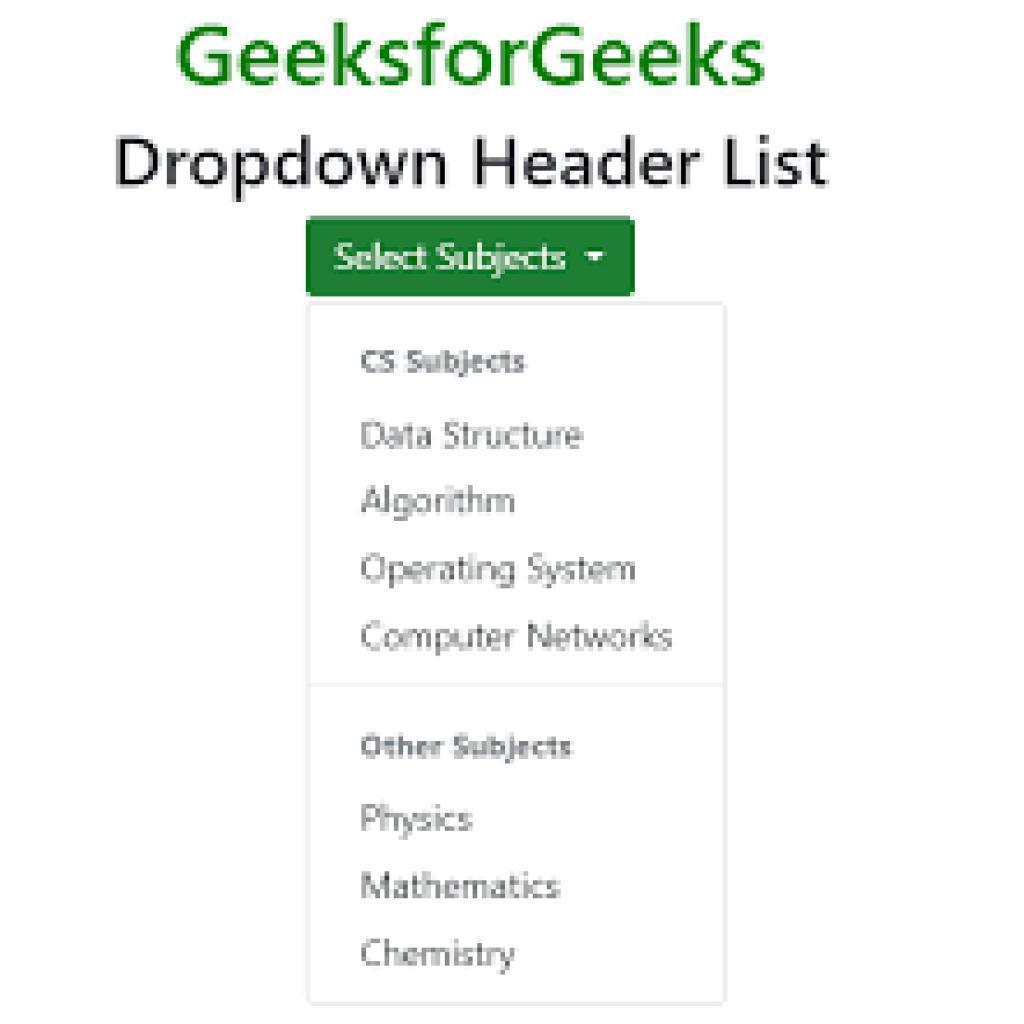dropdown: (309, 214, 635, 299)
